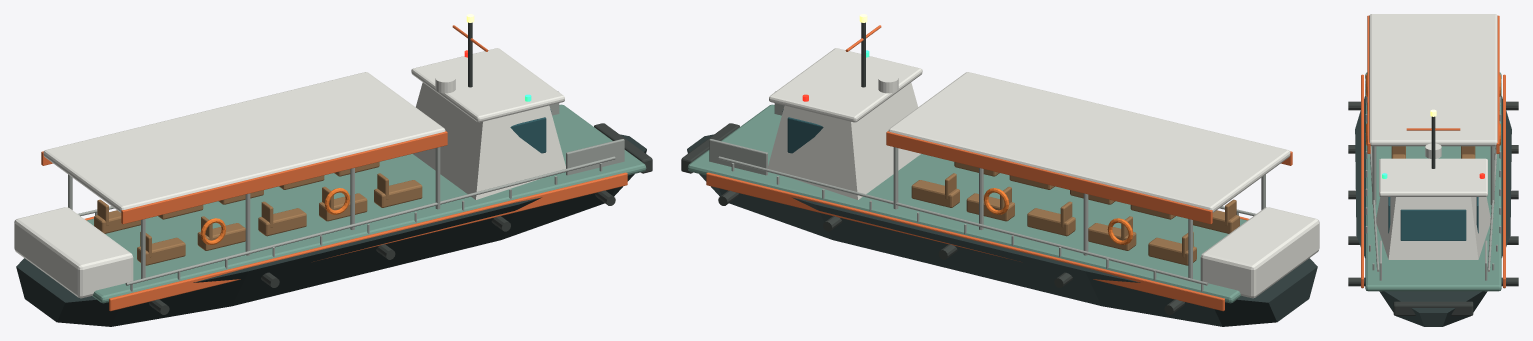
Rendered from transport-zhongshan-106-v13-lod2.glb.
3 renders of one model, left to right at view 1: azimuth 30°, elevation 25°; view 2: azimuth 150°, elevation 25°; view 3: azimuth 270°, elevation 25°, orthographic. The views are drawn at different scales.
Visible parts, largest first — view 1: Zhongshan 106 open passenger shelter roof.001, Zhongshan 106 green vehicle deck.001, Zhongshan 106 dark displacement hull.001, Zhongshan 106 slanted wheelhouse.001, Zhongshan 106 stern machinery casing.001, Zhongshan 106 wheelhouse roof.001, Zhongshan 106 orange roof fascia starboard.001, Zhongshan 106 orange hull band starboard.001, Zhongshan 106 passenger rail.002, Zhongshan 106 boarding safety gate.002, Zhongshan 106 passenger bench.004, Zhongshan 106 passenger bench.002 (+6 smaller); view 2: Zhongshan 106 open passenger shelter roof.001, Zhongshan 106 green vehicle deck.001, Zhongshan 106 dark displacement hull.001, Zhongshan 106 slanted wheelhouse.001, Zhongshan 106 stern machinery casing.001, Zhongshan 106 wheelhouse roof.001, Zhongshan 106 orange roof fascia port.001, Zhongshan 106 orange hull band port.001, Zhongshan 106 passenger rail.003, Zhongshan 106 boarding safety gate.003, Zhongshan 106 passenger bench.009, Zhongshan 106 passenger bench.007 (+6 smaller); view 3: Zhongshan 106 open passenger shelter roof.001, Zhongshan 106 green vehicle deck.001, Zhongshan 106 slanted wheelhouse.001, Zhongshan 106 wheelhouse roof.001, Zhongshan 106 dark displacement hull.001, Zhongshan 106 forward windscreen.001, Zhongshan 106 bow rubber fender.001, Zhongshan 106 orange hull band port.001, Zhongshan 106 orange hull band starboard.001, Zhongshan 106 orange roof fascia port.001, Zhongshan 106 orange roof fascia starboard.001, Zhongshan 106 passenger rail.002 (+10 smaller).
Boxes of the visible parts, x1,y1,x2,y2 form: Zhongshan 106 open passenger shelter roof.001: (43,72,445,212); Zhongshan 106 green vehicle deck.001: (86,104,646,303); Zhongshan 106 dark displacement hull.001: (16,134,646,326); Zhongshan 106 slanted wheelhouse.001: (413,82,565,199); Zhongshan 106 stern machinery casing.001: (14,207,133,298); Zhongshan 106 wheelhouse roof.001: (411,48,564,122); Zhongshan 106 orange roof fascia starboard.001: (121,131,447,224); Zhongshan 106 orange hull band starboard.001: (109,172,627,311); Zhongshan 106 passenger rail.002: (125,156,615,285); Zhongshan 106 boarding safety gate.002: (566,139,624,175); Zhongshan 106 passenger bench.004: (374,180,422,207); Zhongshan 106 passenger bench.002: (258,208,306,236); Zhongshan 106 open passenger shelter roof.001: (888,72,1290,212); Zhongshan 106 green vehicle deck.001: (687,104,1247,303); Zhongshan 106 dark displacement hull.001: (687,134,1317,326); Zhongshan 106 slanted wheelhouse.001: (768,82,920,199); Zhongshan 106 stern machinery casing.001: (1200,207,1319,298); Zhongshan 106 wheelhouse roof.001: (769,48,922,122); Zhongshan 106 orange roof fascia port.001: (886,131,1212,224); Zhongshan 106 orange hull band port.001: (706,172,1224,311); Zhongshan 106 passenger rail.003: (718,156,1208,285); Zhongshan 106 boarding safety gate.003: (709,139,767,175); Zhongshan 106 passenger bench.009: (911,180,959,207); Zhongshan 106 passenger bench.007: (1027,208,1075,236); Zhongshan 106 open passenger shelter roof.001: (1369,14,1497,146); Zhongshan 106 green vehicle deck.001: (1365,72,1501,291); Zhongshan 106 slanted wheelhouse.001: (1376,197,1490,259); Zhongshan 106 wheelhouse roof.001: (1379,158,1487,196); Zhongshan 106 dark displacement hull.001: (1355,96,1511,326); Zhongshan 106 forward windscreen.001: (1400,209,1466,240); Zhongshan 106 bow rubber fender.001: (1393,301,1473,315); Zhongshan 106 orange hull band port.001: (1503,74,1505,288); Zhongshan 106 orange hull band starboard.001: (1361,74,1363,288); Zhongshan 106 orange roof fascia port.001: (1496,15,1499,153); Zhongshan 106 orange roof fascia starboard.001: (1367,15,1370,153); Zhongshan 106 passenger rail.002: (1365,74,1379,271).
Bounding box in the file's own units: 21.7 × 7 × 6.62.
